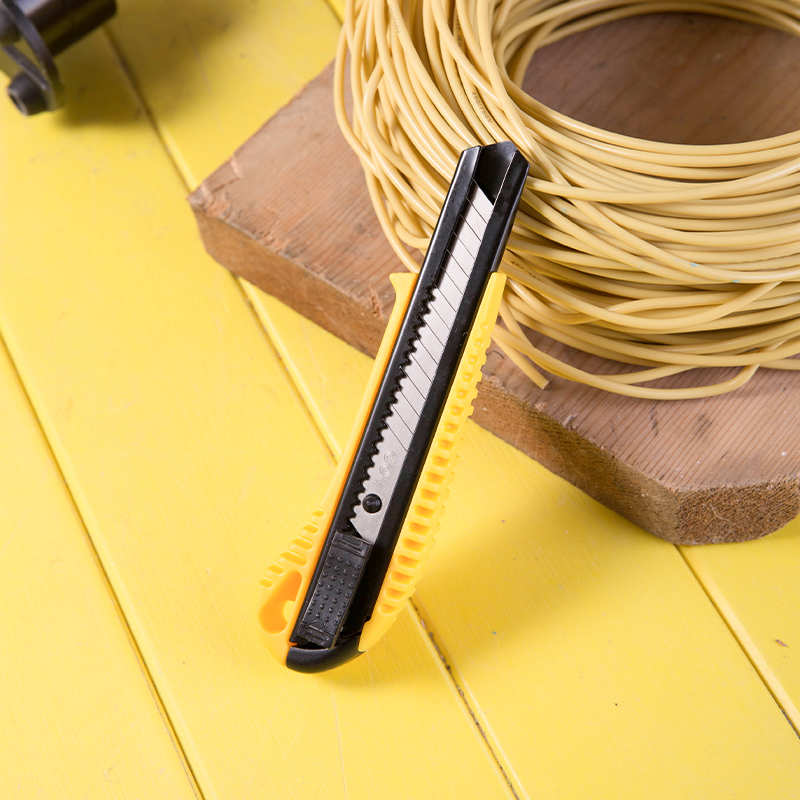cutter: (253, 137, 528, 675)
